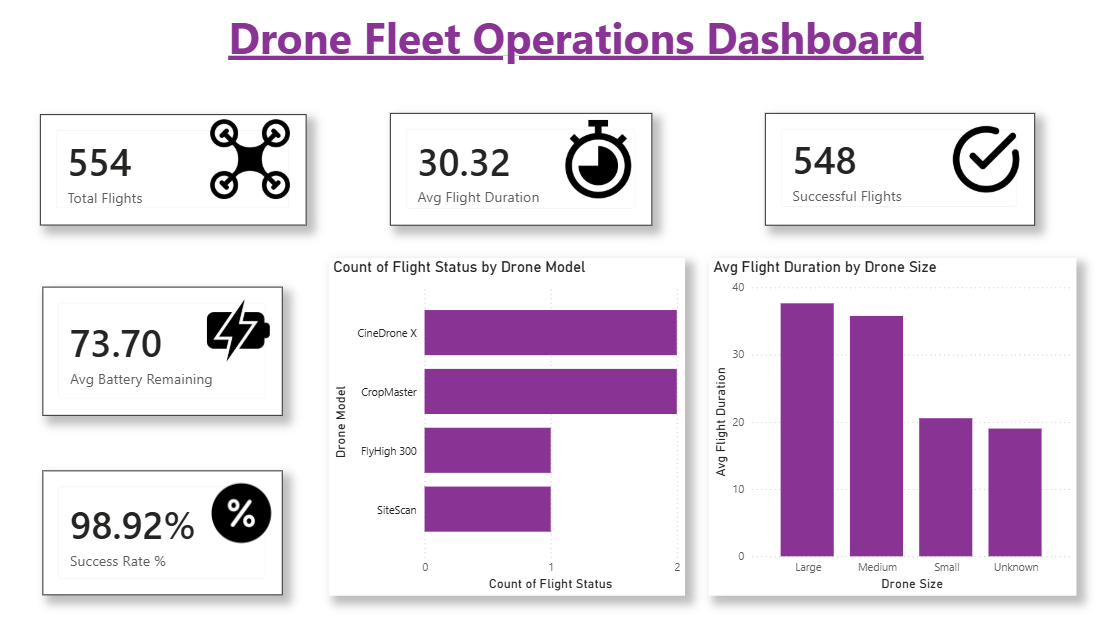

The dashboard page shown, as its layout file describes it:
{"tool":"powerbi","page":{"name":"Page 1","canvas":[1280,720],"ordinal":0},"visuals":[{"type":"cardVisual","fields":{"Data":["DroneFlights.Successful Flights"]},"box":[898.2,134.7,303.2,126.3],"z":0},{"type":"cardVisual","fields":{"Data":["DroneFlights.Success Rate %"]},"box":[87,536.1,269.5,140.4],"z":1000},{"type":"cardVisual","fields":{"Data":["DroneFlights.Avg Flight Duration"]},"box":[477.2,134.7,294.7,126.3],"z":2000},{"type":"cardVisual","fields":{"Data":["DroneFlights.Avg Battery Remaining"]},"box":[87,329.8,269.5,144.6],"z":3000},{"type":"clusteredBarChart","fields":{"Category":["DroneFlights.Drone Model"],"Y":["CountNonNull(DroneFlights.Flight Status)"]},"box":[408.4,297.5,400,378.9],"z":4000},{"type":"clusteredColumnChart","fields":{"Category":["DroneFlights.Drone Size"],"Y":["DroneFlights.Avg Flight Duration"]},"box":[835.1,297.5,412.6,378.9],"z":5000},{"type":"image","box":[1101.8,134.7,89.8,103.9],"z":7000},{"type":"image","box":[268.1,342.5,77.2,73],"z":8000},{"type":"image","box":[275.1,548.8,70.2,70.2],"z":9000},{"type":"image","box":[666.7,141.8,88.4,89.8],"z":10000},{"type":"textbox","box":[290.5,11.2,843.5,77.2],"z":11000},{"type":"cardVisual","fields":{"Data":["DroneFlights.Total Flights"]},"box":[84.2,136.1,298.9,124.9],"z":12000},{"type":"image","box":[256.8,141.8,126.3,89.8],"z":12001}]}

Visuals, with their boxes in screenshot pixels (x1, y1, x2, y2), scaled from the page's 1280x720 canvas onto the 1102x627 screenshot:
cardVisual - DroneFlights.Successful Flights: 773:117:1034:227
cardVisual - DroneFlights.Success Rate %: 75:467:307:589
cardVisual - DroneFlights.Avg Flight Duration: 411:117:665:227
cardVisual - DroneFlights.Avg Battery Remaining: 75:287:307:413
clusteredBarChart - DroneFlights.Drone Model x CountNonNull(DroneFlights.Flight Status): 352:259:696:589
clusteredColumnChart - DroneFlights.Drone Size x DroneFlights.Avg Flight Duration: 719:259:1074:589
image: 949:117:1026:208
image: 231:298:297:362
image: 237:478:297:539
image: 574:123:650:202
textbox: 250:10:976:77
cardVisual - DroneFlights.Total Flights: 72:119:330:227
image: 221:123:330:202
